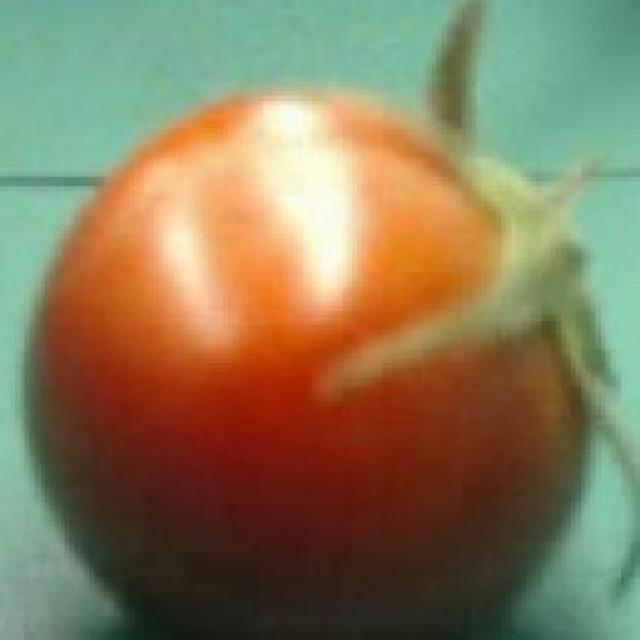tomato: (25, 90, 604, 639)
